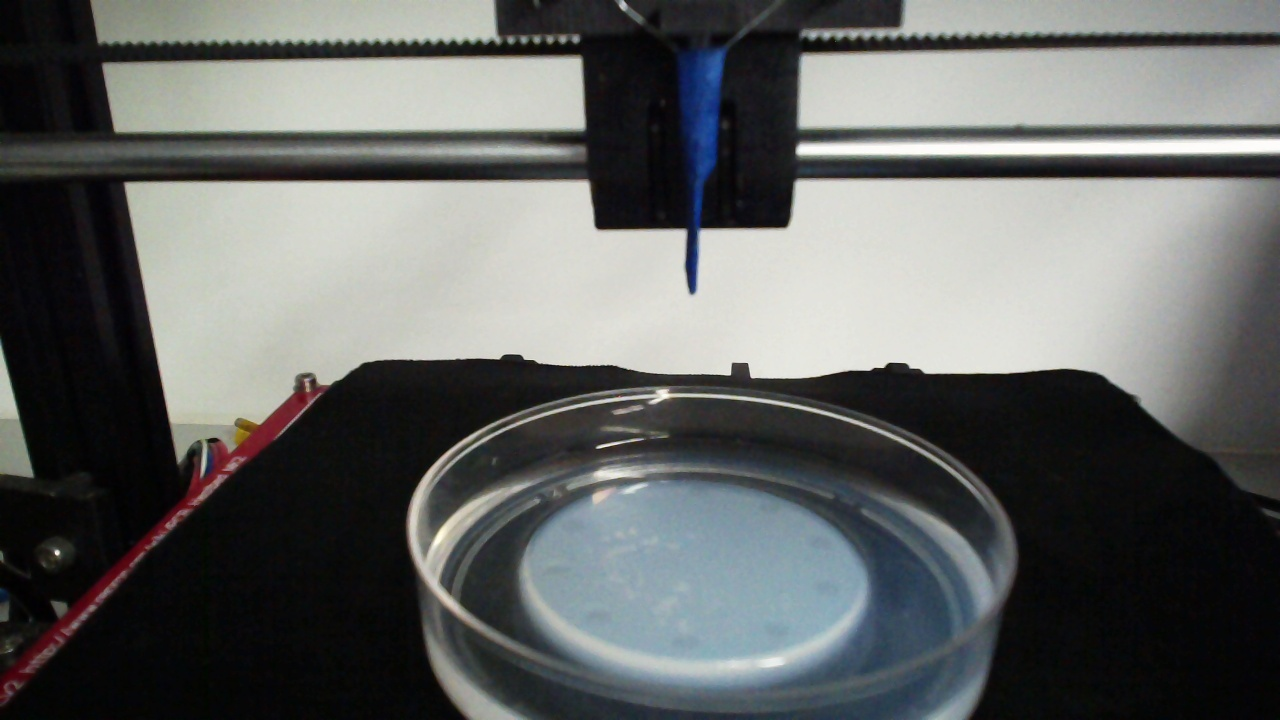groove: (555, 515, 588, 535), (672, 631, 706, 650), (803, 530, 833, 550), (763, 619, 792, 639), (542, 561, 574, 579), (810, 577, 841, 595), (585, 605, 611, 625), (757, 498, 783, 516)
needle: (669, 53, 720, 297)
